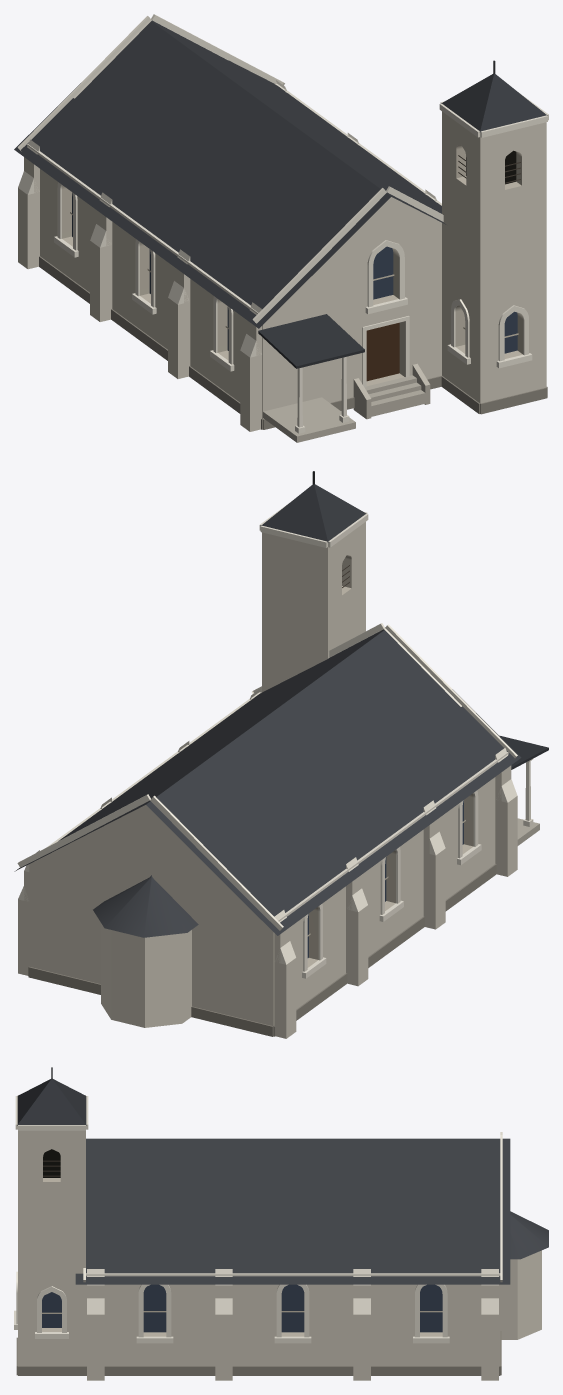
Rendered from ch-payne-chapel-1961.glb.
3 views of the same model, one above another, from view 1: azimuth 30°, elevation 25°; view 2: azimuth 150°, elevation 25°; view 3: azimuth 270°, elevation 25° (orthographic). The views are drawn at different scales.
Parts seen in each view (by area): view 1: ch_brick, ch_roof, ch_trim, ch_roof2, ch_conc, ch_brick2, ch_base, ch_door, ch_stain; view 2: ch_brick, ch_roof, ch_trim, ch_roof2, ch_base, ch_brick2; view 3: ch_roof, ch_brick, ch_trim, ch_base, ch_stain, ch_roof2, ch_brick2, ch_shadow.
Part boxes in pixels (bbox=[...]): ch_brick: bbox=[18, 111, 546, 431]; ch_roof: bbox=[14, 20, 446, 328]; ch_trim: bbox=[17, 14, 548, 433]; ch_roof2: bbox=[258, 74, 547, 368]; ch_conc: bbox=[263, 363, 430, 442]; ch_brick2: bbox=[62, 145, 523, 386]; ch_base: bbox=[39, 256, 547, 429]; ch_door: bbox=[366, 322, 399, 381]; ch_stain: bbox=[72, 193, 517, 353]; ch_brick: bbox=[18, 522, 517, 1038]; ch_roof: bbox=[14, 629, 521, 937]; ch_trim: bbox=[17, 502, 533, 978]; ch_roof2: bbox=[261, 484, 548, 769]; ch_base: bbox=[28, 864, 496, 1036]; ch_brick2: bbox=[307, 555, 473, 967]; ch_roof: bbox=[75, 1138, 548, 1284]; ch_brick: bbox=[18, 1130, 541, 1380]; ch_trim: bbox=[14, 1095, 502, 1343]; ch_base: bbox=[16, 1331, 501, 1375]; ch_stain: bbox=[42, 1284, 442, 1332]; ch_roof2: bbox=[17, 1079, 86, 1125]; ch_brick2: bbox=[42, 1178, 442, 1336]; ch_shadow: bbox=[43, 1149, 60, 1177].
Size of the model in its own units: 11 by 12.99 by 21.3.
